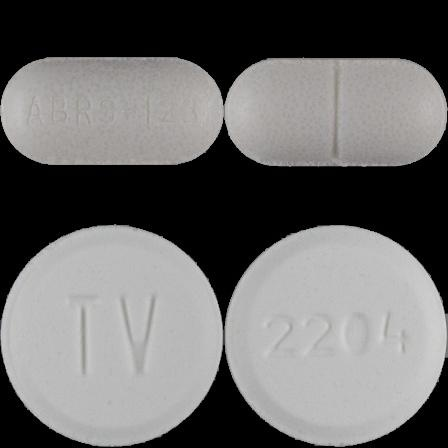49999-740: (0, 0, 224, 224)
